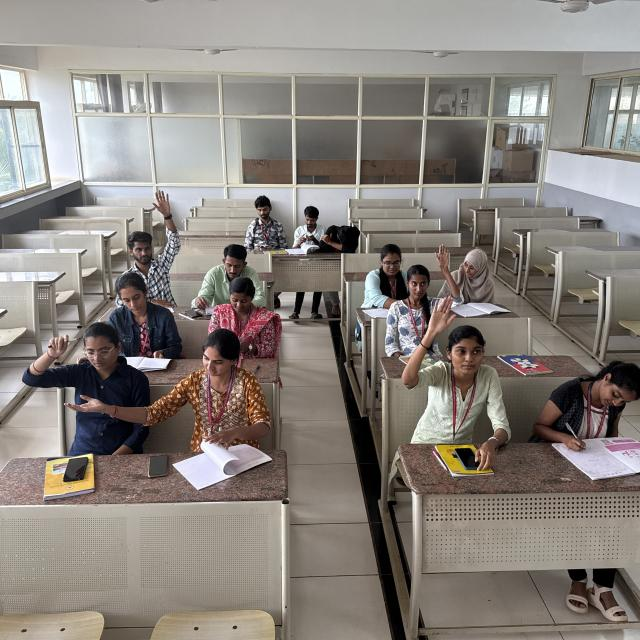Hand Rising: (402, 298, 509, 432), (388, 244, 461, 356), (118, 189, 181, 296)
Reading: (106, 271, 174, 371), (197, 240, 271, 318)
Sleeping: (324, 225, 359, 255)
Writing: (531, 360, 640, 459), (445, 246, 502, 314)
